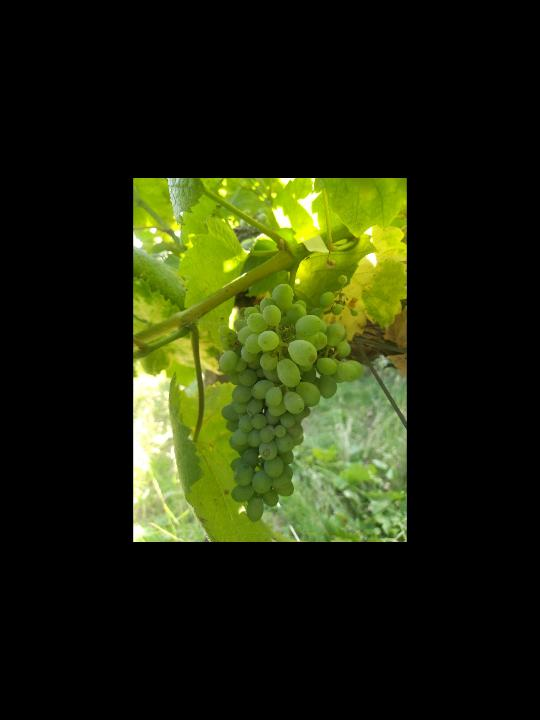grape: (216, 274, 367, 526)
